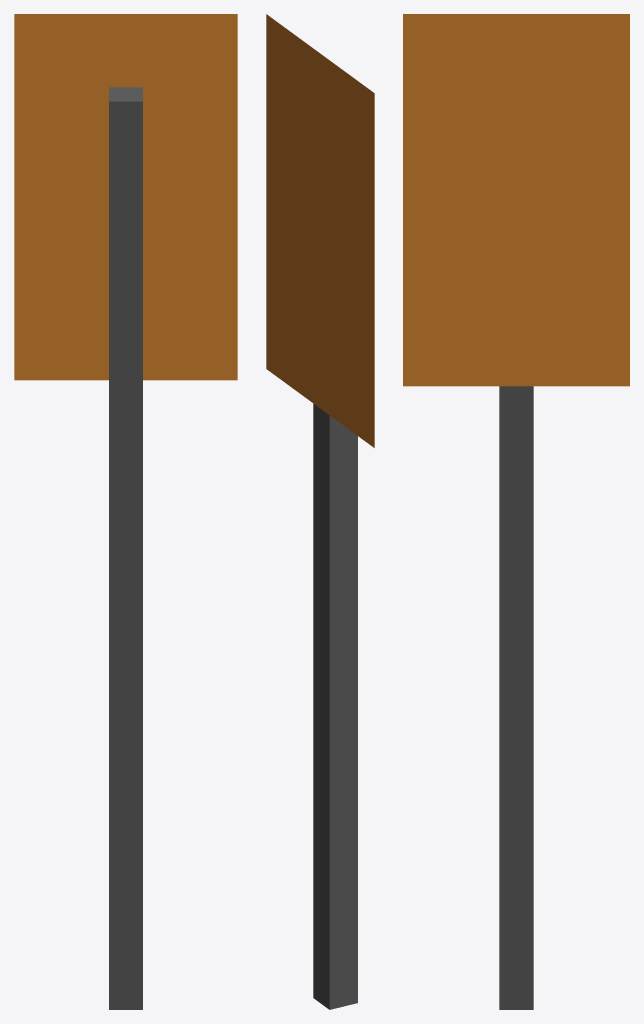
Rendered from Sign.glb.
The picture shows the model from 3 angles, left to right: view 1: azimuth 90°, elevation 25°; view 2: azimuth 210°, elevation 25°; view 3: azimuth 270°, elevation 25°; orthographic projection. The views are drawn at different scales.
Parts seen in each view (by area): view 1: Sign, Cube; view 2: Sign, Cube; view 3: Sign, Cube.
Boxes of the visible parts, x1,y1,x2,y2 form: Sign: [14, 14, 237, 380]; Cube: [109, 87, 142, 1009]; Sign: [266, 14, 374, 447]; Cube: [313, 403, 357, 1009]; Sign: [403, 14, 629, 386]; Cube: [499, 386, 533, 1009].
Bounding box in the file's own units: 0.3126 × 9.69 × 2.
